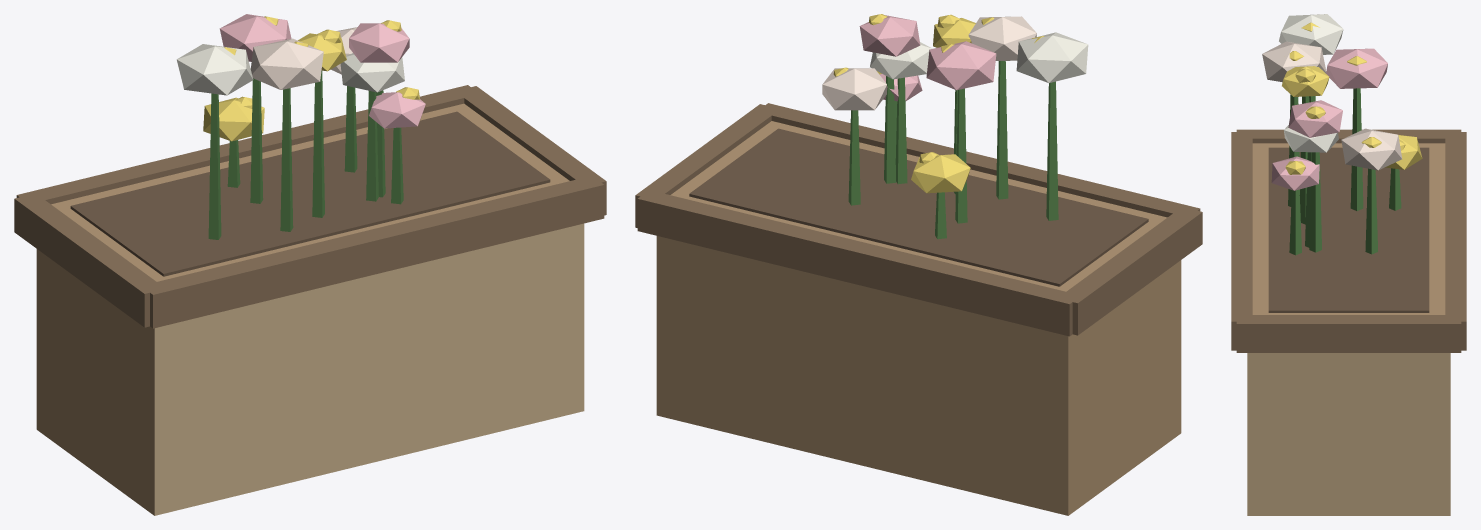
File: flower_planter.glb
The picture shows the model from 3 angles, left to right: view 1: azimuth 30°, elevation 25°; view 2: azimuth 150°, elevation 25°; view 3: azimuth 270°, elevation 25°; orthographic projection. The views are drawn at different scales.
Visible parts, largest first — view 1: flower_planter; view 2: flower_planter; view 3: flower_planter.
Boxes of the visible parts, x1=… form: flower_planter: x1=14, y1=14, x2=606, y2=515; flower_planter: x1=635, y1=14, x2=1202, y2=515; flower_planter: x1=1231, y1=14, x2=1466, y2=515.
Bounding box in the file's own units: 0.86 × 0.7448 × 0.44.
